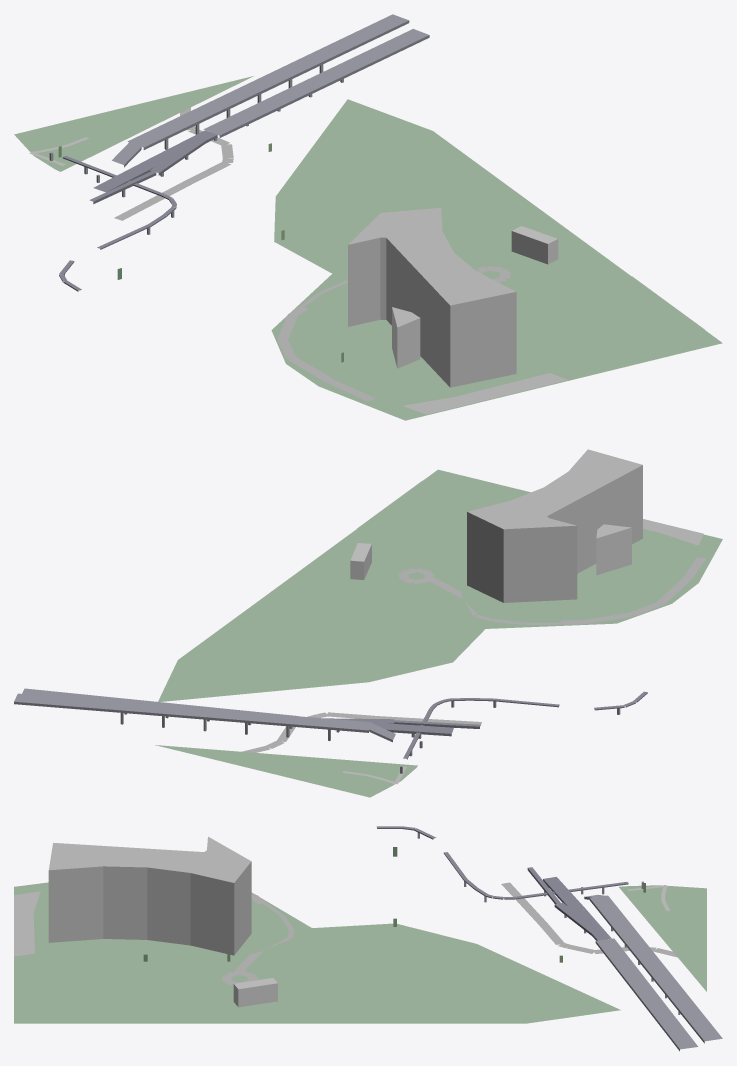
The picture shows the model from 3 angles, top to bottom: view 1: azimuth 30°, elevation 25°; view 2: azimuth 150°, elevation 25°; view 3: azimuth 270°, elevation 25°; orthographic projection. The views are drawn at different scales.
Bounding box in the file's own units: 386 × 59.3 × 512.
